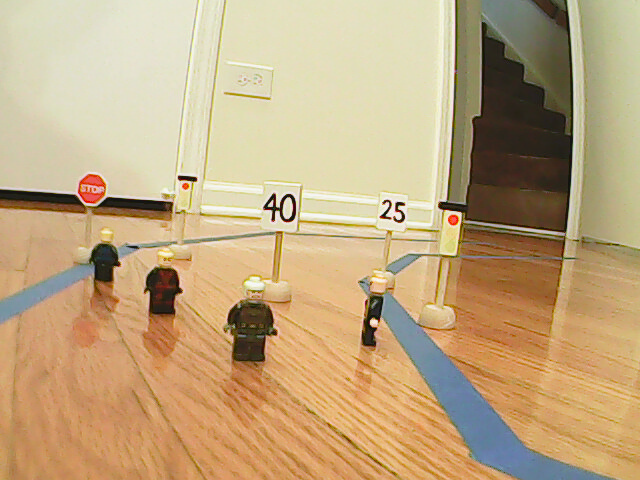Person: (222, 276, 280, 365), (143, 247, 180, 316), (359, 272, 387, 348), (91, 226, 119, 288)
Red Traffic Light: (436, 201, 464, 259), (177, 174, 195, 213)
Speed Limit 25: (378, 192, 407, 234)
Speed Limit 40: (260, 181, 302, 234)
Stop Sign: (78, 170, 108, 209)
